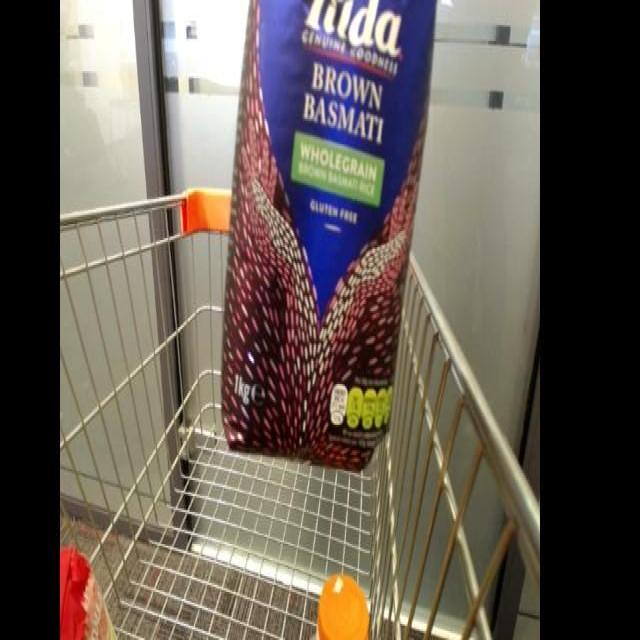Tida: (218, 3, 442, 472)
